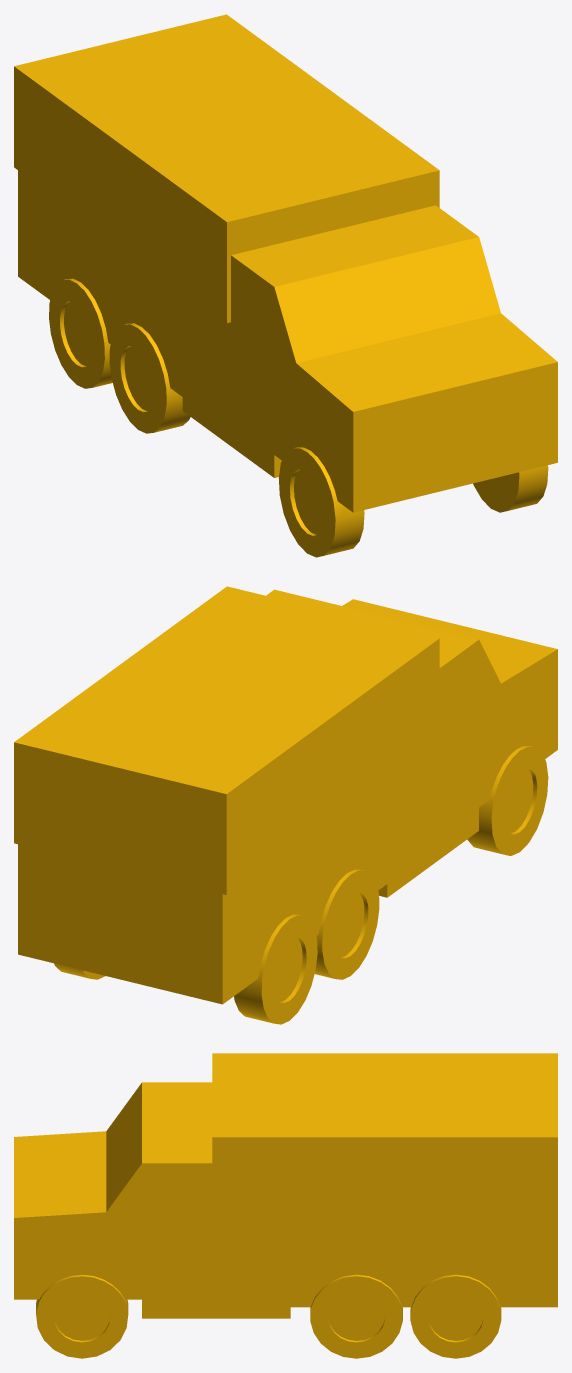
Rendered from Boardgame_Piece_Military_Modern_Truck_Yellow_01.fbx.
The picture shows the model from 3 angles, top to bottom: view 1: azimuth 30°, elevation 25°; view 2: azimuth 150°, elevation 25°; view 3: azimuth 270°, elevation 25°; orthographic projection. The views are drawn at different scales.
Visible parts, largest first — view 1: Boardgame_Piece_Military_Modern_Truck_Yellow_01; view 2: Boardgame_Piece_Military_Modern_Truck_Yellow_01; view 3: Boardgame_Piece_Military_Modern_Truck_Yellow_01.
Boxes of the visible parts, x1,y1,x2,y2 form: Boardgame_Piece_Military_Modern_Truck_Yellow_01: (14, 14, 557, 557); Boardgame_Piece_Military_Modern_Truck_Yellow_01: (14, 586, 557, 1024); Boardgame_Piece_Military_Modern_Truck_Yellow_01: (14, 1053, 557, 1358).
Size of the model in its own units: 25.31 by 31 by 69.09.
